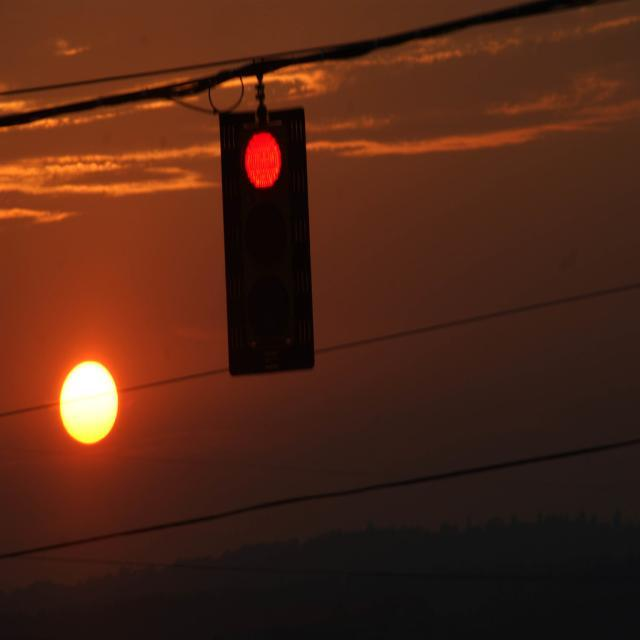traffic light: (218, 115, 320, 376)
